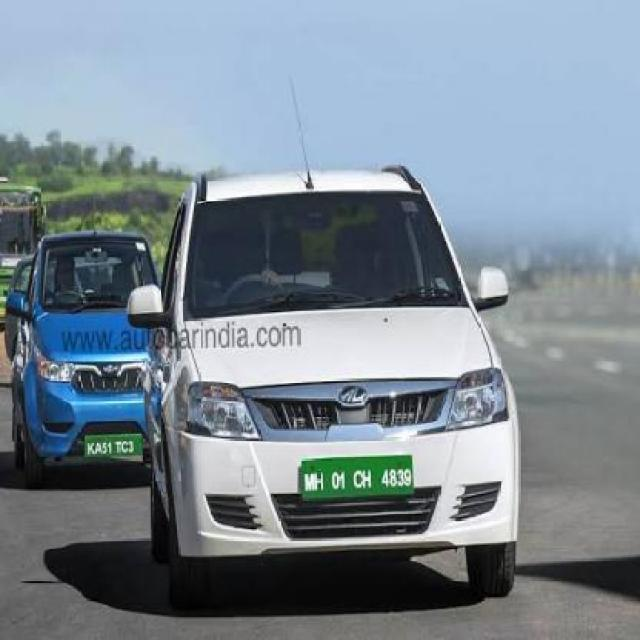vehicle: (130, 58, 528, 600)
